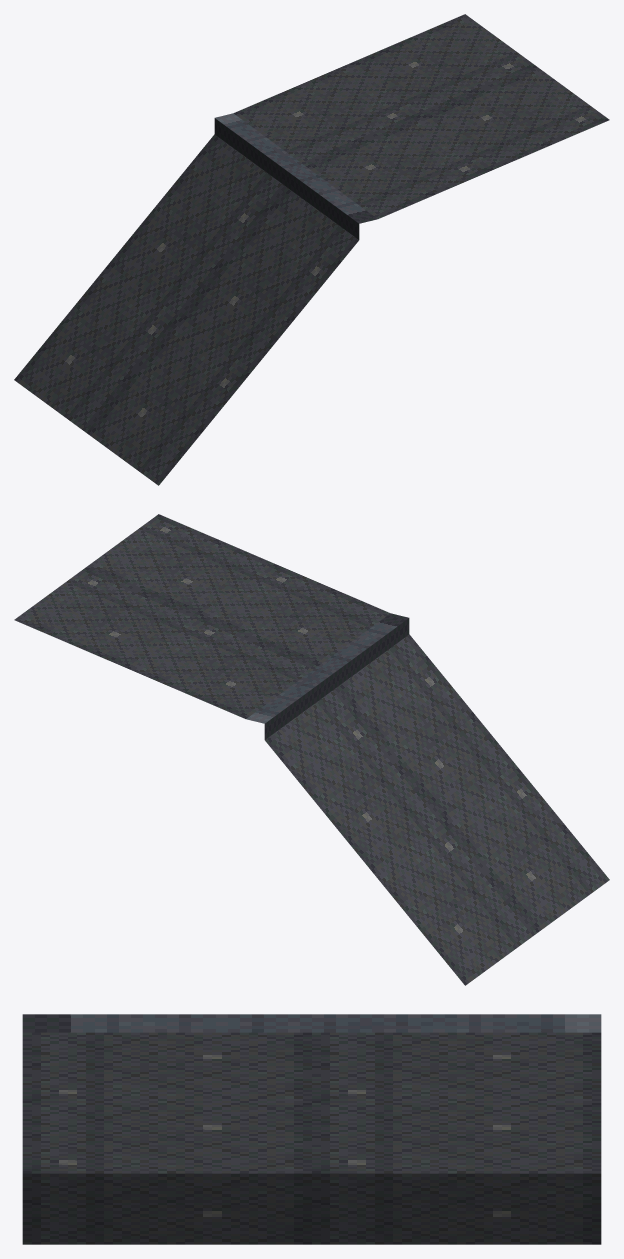
Rendered from mtn_shotcrete_net.glb.
3 renders of one model, top to bottom at view 1: azimuth 30°, elevation 25°; view 2: azimuth 150°, elevation 25°; view 3: azimuth 270°, elevation 25°, orthographic. The views are drawn at different scales.
Visible parts, largest first — view 1: mtn_shotcrete_net; view 2: mtn_shotcrete_net; view 3: mtn_shotcrete_net.
Boxes of the visible parts, bbox=[...] form: mtn_shotcrete_net: bbox=[14, 14, 609, 485]; mtn_shotcrete_net: bbox=[14, 514, 609, 985]; mtn_shotcrete_net: bbox=[22, 1014, 601, 1244].
Bounding box in the file's own units: 7.2 × 3.9 × 4.
2 materials, 2 textured.
